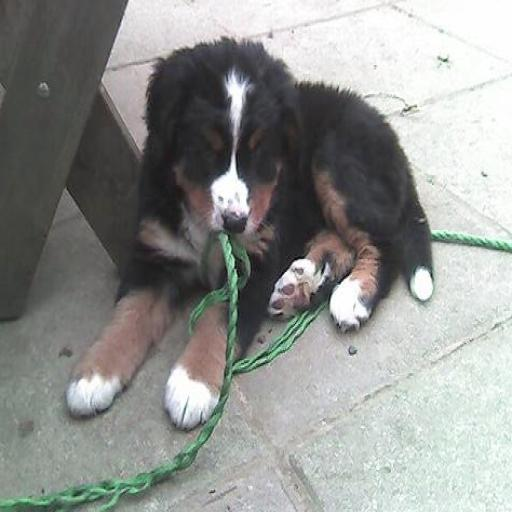dog_face: (135, 33, 301, 242)
